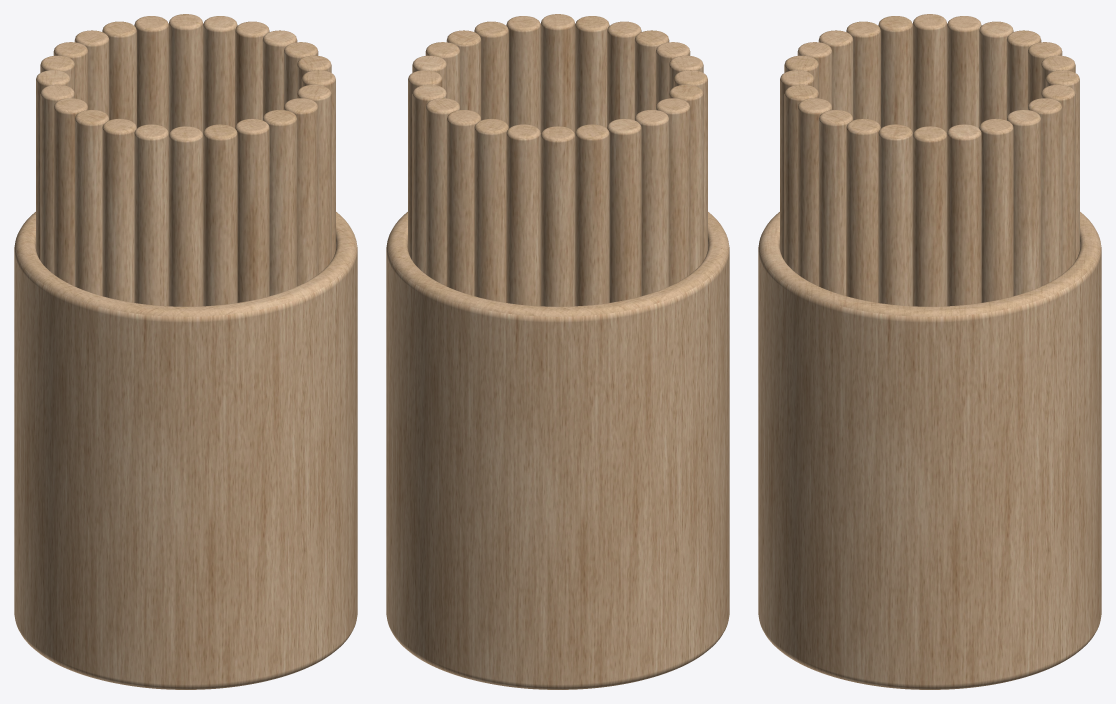
The model's file is queen-white-hd.glb.
The picture shows the model from 3 angles, left to right: view 1: azimuth 30°, elevation 25°; view 2: azimuth 150°, elevation 25°; view 3: azimuth 270°, elevation 25°; orthographic projection.
Parts seen in each view (by area): view 1: Cylindra_Dáma_bílý; view 2: Cylindra_Dáma_bílý; view 3: Cylindra_Dáma_bílý.
Boxes of the visible parts, x1,y1,x2,y2 form: Cylindra_Dáma_bílý: (14,14,357,689); Cylindra_Dáma_bílý: (386,14,729,689); Cylindra_Dáma_bílý: (758,14,1101,689).
Bounding box in the file's own units: 0.5715 × 1 × 0.5715.
Materials: 2 (2 with a texture image).
